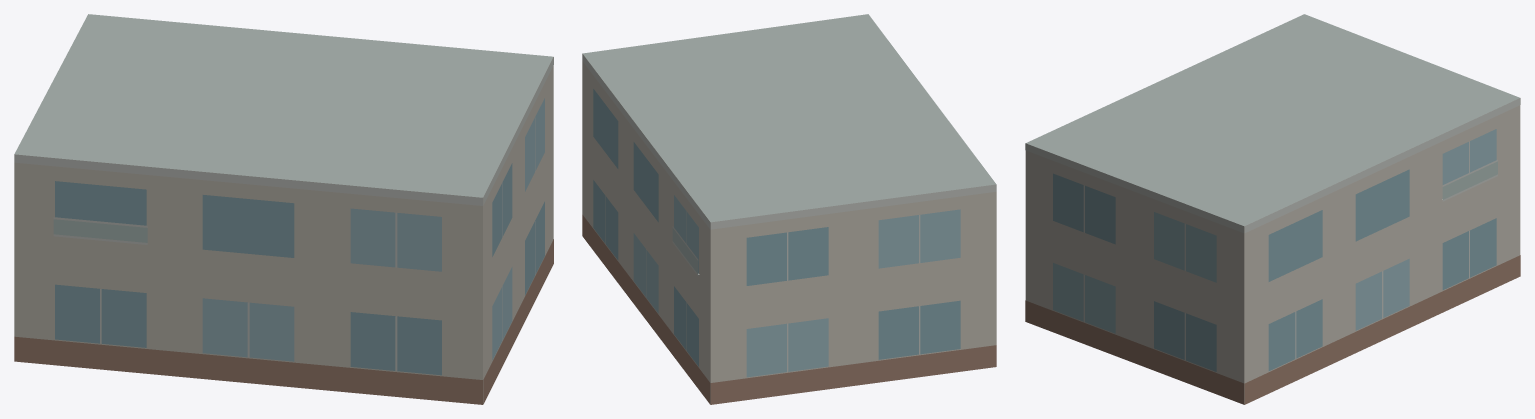
File: survey-upis-32711881.glb
3 views of the same model, side by side, from view 1: azimuth 30°, elevation 25°; view 2: azimuth 150°, elevation 25°; view 3: azimuth 270°, elevation 25° (orthographic). The views are drawn at different scales.
Parts seen in each view (by area): view 1: survey-upis-32711881.tmp; view 2: survey-upis-32711881.tmp; view 3: survey-upis-32711881.tmp.
Part boxes in pixels (x1,y1,x2,y2): survey-upis-32711881.tmp: (14,14,553,404); survey-upis-32711881.tmp: (582,14,996,404); survey-upis-32711881.tmp: (1025,14,1520,404).
Size of the model in its own units: 15.57 by 6.1 by 15.33.
